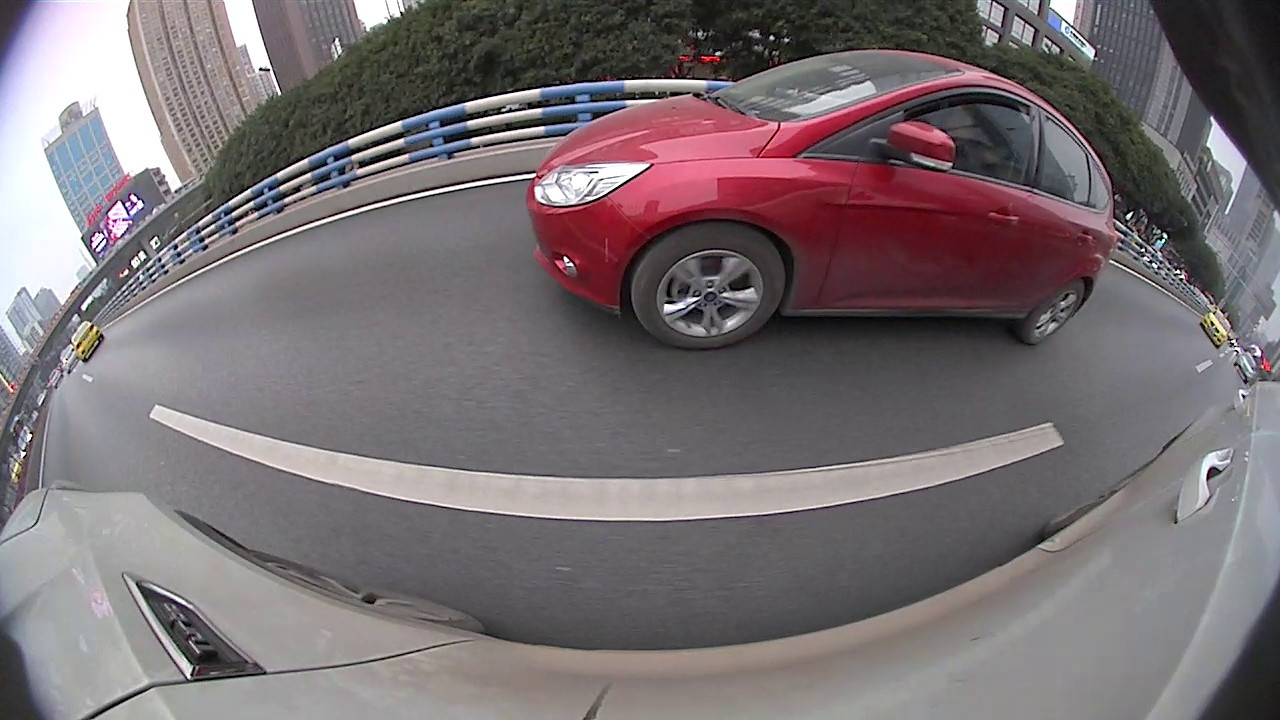car: (528, 44, 1117, 348), (69, 320, 103, 361), (1201, 305, 1232, 349)
front: (630, 224, 785, 343)
rear: (1019, 284, 1093, 343)
